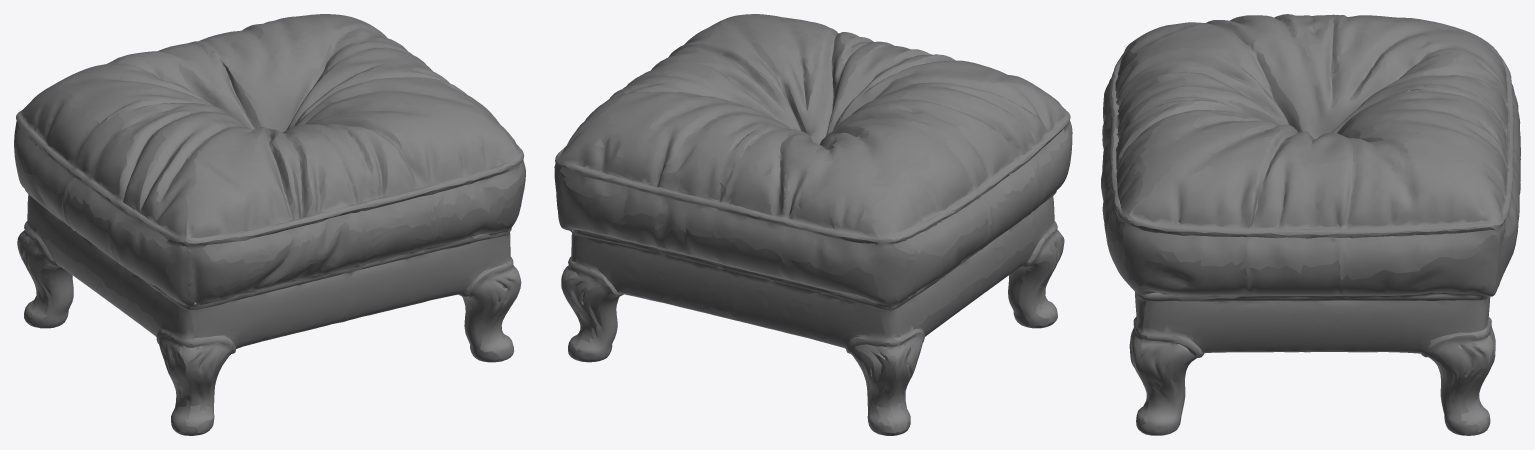
File: completion_ottoman_1.glb
3 views of the same model, side by side, from view 1: azimuth 30°, elevation 25°; view 2: azimuth 150°, elevation 25°; view 3: azimuth 270°, elevation 25° (orthographic). The views are drawn at different scales.
Parts seen in each view (by area): view 1: geometry_0; view 2: geometry_0; view 3: geometry_0.
Part boxes in pixels (left/top/right/bottom): geometry_0: left=14, top=14, right=525, bottom=435; geometry_0: left=554, top=14, right=1072, bottom=435; geometry_0: left=1101, top=14, right=1520, bottom=435.
Bounding box in the file's own units: 1 × 0.642 × 0.8936.
1 material, 1 textured.
